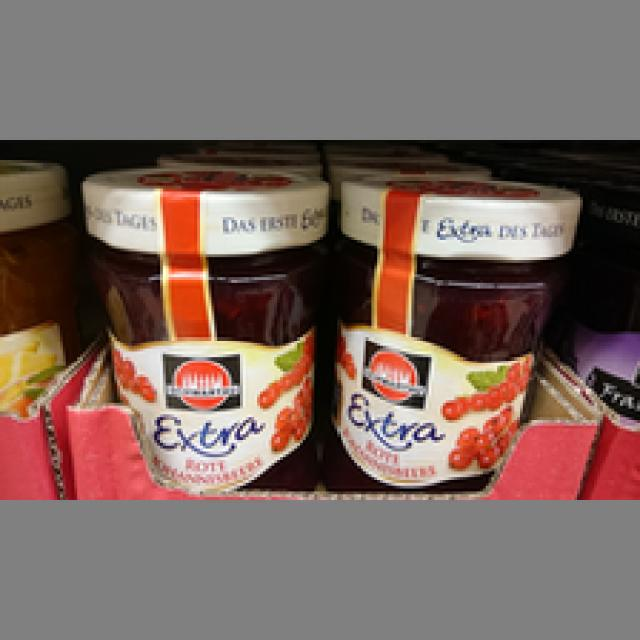groceries: (323, 168, 580, 492), (77, 163, 323, 491)
